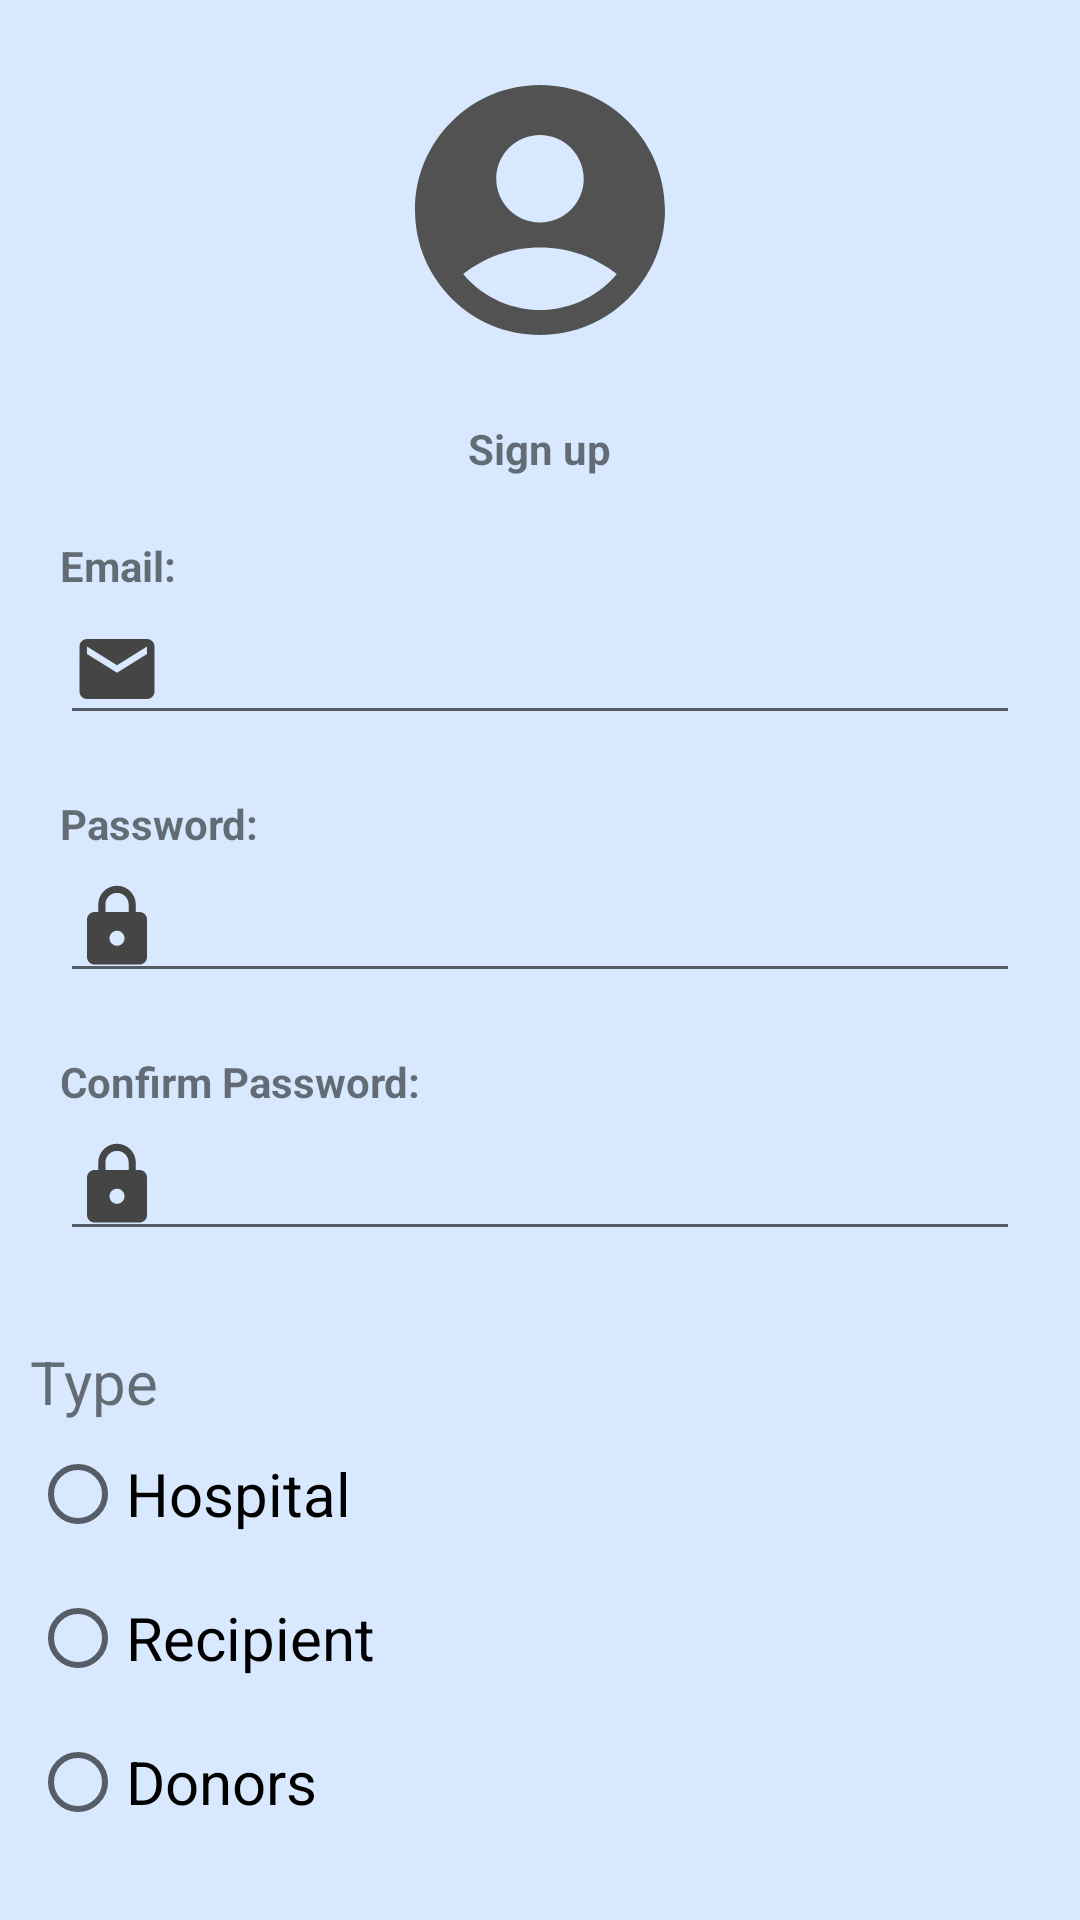

Named icons in this screenshot (1080 × 1920) and their bounding boxes, (x1, y1, x2, y2):
account: (415, 85, 665, 335)
